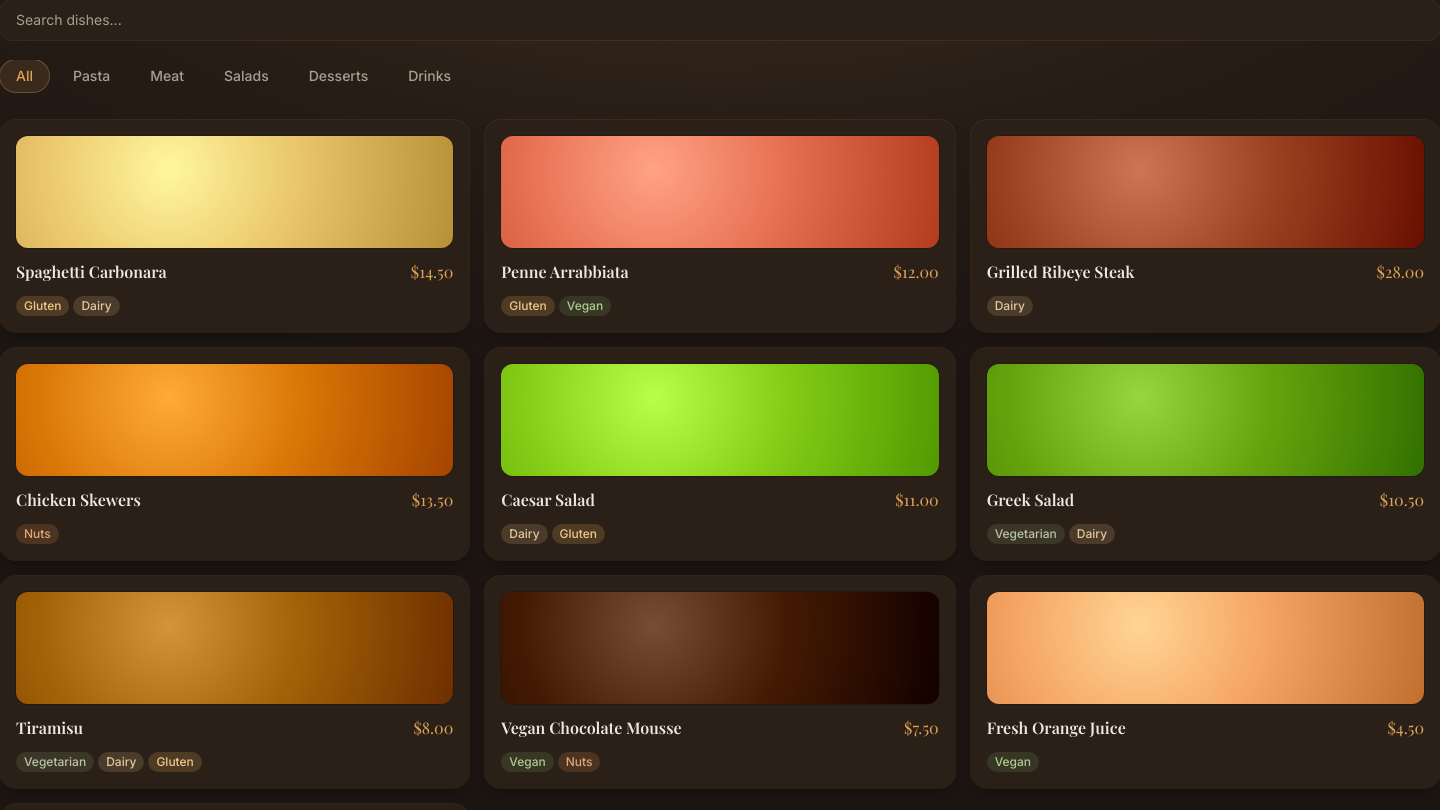
Test case: MenuPage › filters dishes by category
What coordinates should you click on to do the following:
click the tab "Drinks"
I would click on:
 (430, 76)
Its box is [392,60,467,92].
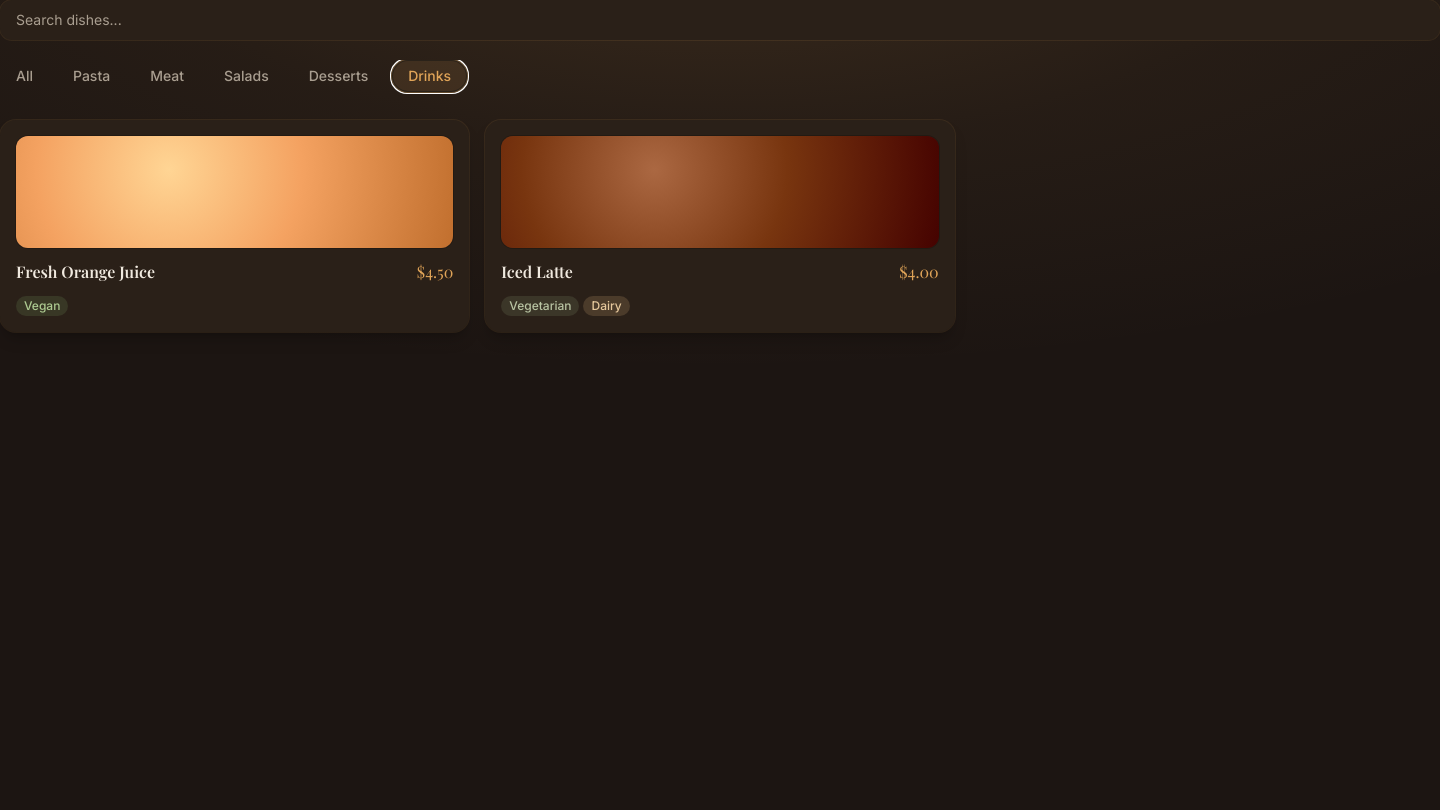
Expected: the heading "Fresh Orange Juice" is shown, [16,260,155,284]
Expected: the number of links with test id "dish-card" is 2, [0,120,469,332]; [485,120,955,332]
